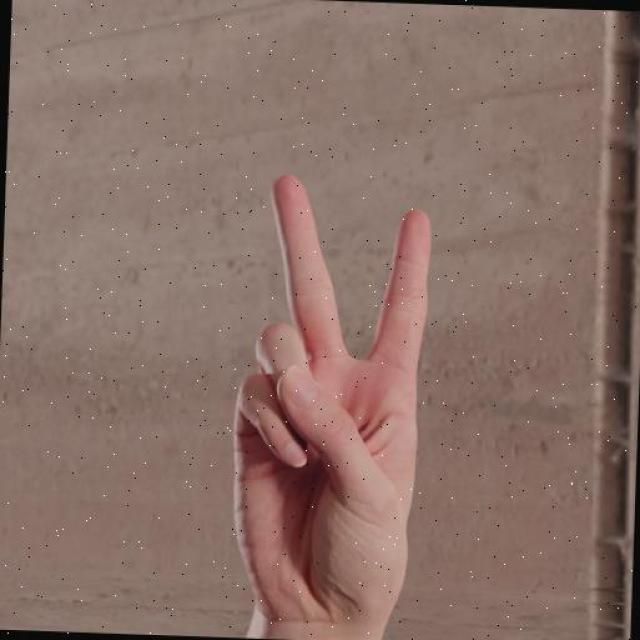V: (224, 165, 437, 616)
